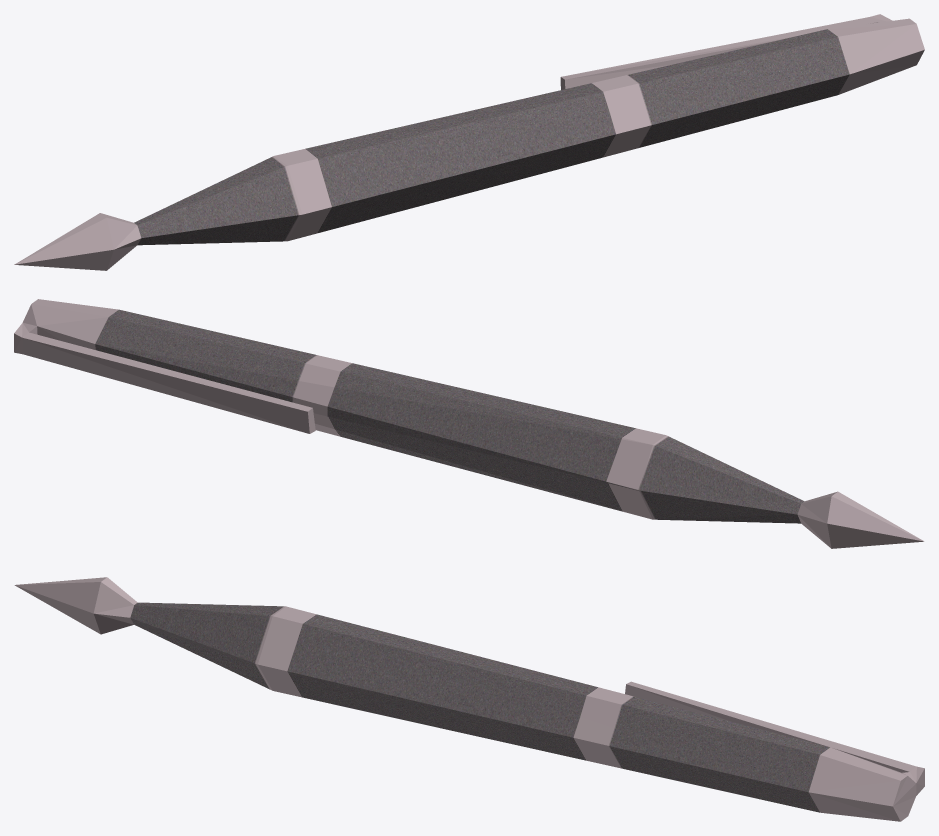
Rendered from Pen.fbx.
3 views of the same model, one above another, from view 1: azimuth 30°, elevation 25°; view 2: azimuth 150°, elevation 25°; view 3: azimuth 330°, elevation 25° (orthographic).
Parts seen in each view (by area): view 1: pen:pCylinder2; view 2: pen:pCylinder2; view 3: pen:pCylinder2.
Boxes of the visible parts, left/top/right/bottom form: pen:pCylinder2: left=14, top=14, right=924, bottom=270; pen:pCylinder2: left=14, top=299, right=924, bottom=548; pen:pCylinder2: left=14, top=577, right=924, bottom=821.
Bounding box in the file's own units: 10.19 × 0.8165 × 1.17.
